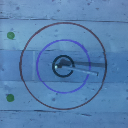Axe Tip: (57, 63, 70, 66)
